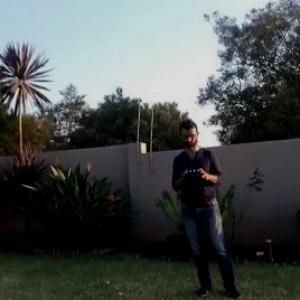follow: (168, 115, 247, 299)
